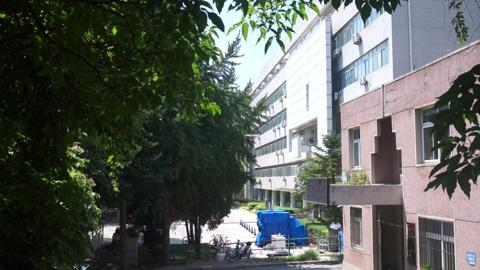UAV: (245, 134, 260, 141)
